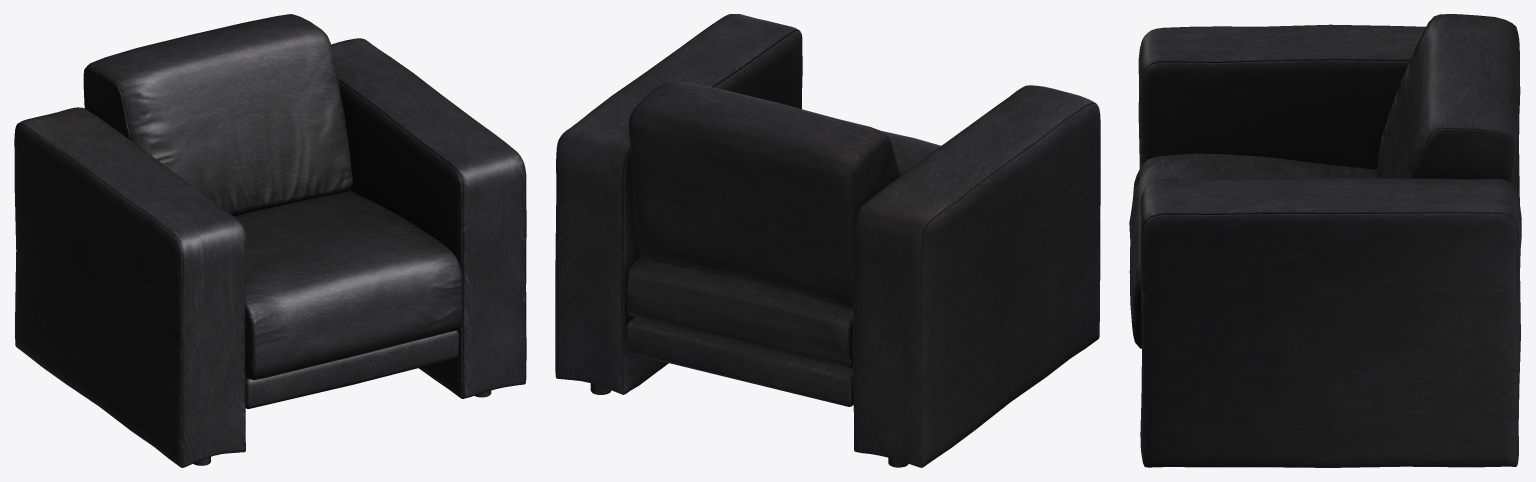
The model's file is cubic_uno.glb.
3 renders of one model, left to right at view 1: azimuth 30°, elevation 25°; view 2: azimuth 150°, elevation 25°; view 3: azimuth 270°, elevation 25°, orthographic. The views are drawn at different scales.
Parts seen in each view (by area): view 1: cubic_uno-black; view 2: cubic_uno-black; view 3: cubic_uno-black.
Part boxes in pixels (left/top/right/bottom): cubic_uno-black: left=14, top=14, right=526, bottom=467; cubic_uno-black: left=555, top=14, right=1100, bottom=467; cubic_uno-black: left=1129, top=14, right=1521, bottom=467.
Bounding box in the file's own units: 0.9383 × 0.7343 × 0.8127.
Materials: 1 (1 with a texture image).
